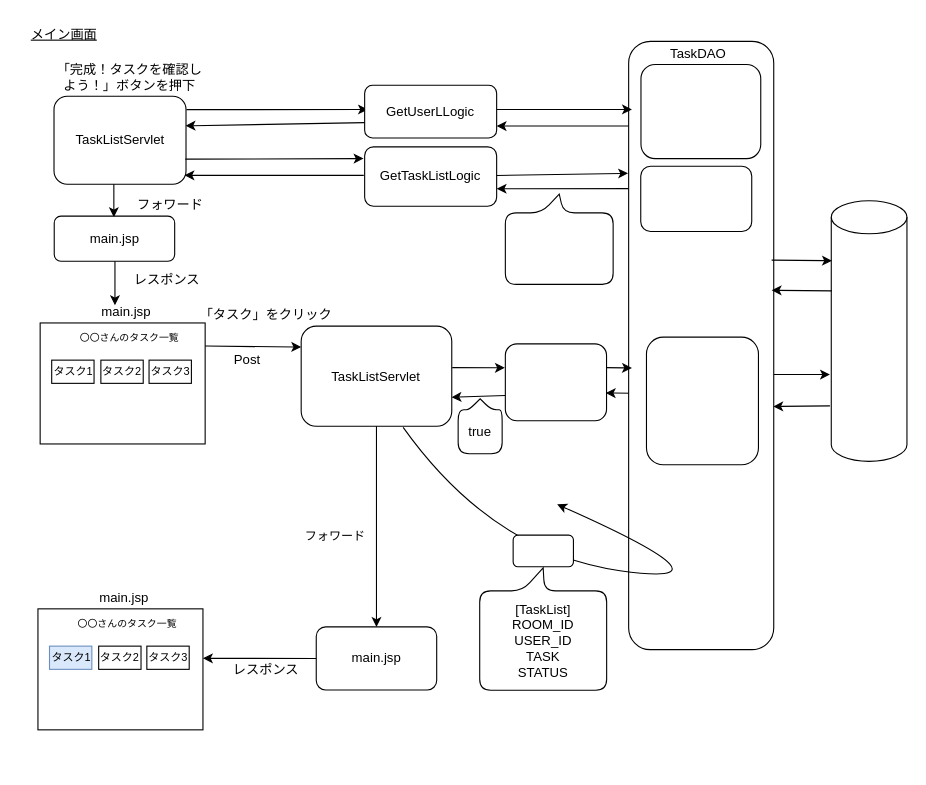
This 926x785 diagram has some shape labels left out. Here are the shapes that lost their labels. From the top down, the centre of each, then its label:
point (700, 111): updateuserid() Taskテーブルの useridを更新する UPDATE文を実行
point (696, 198): findAll() SELECT文を実行
point (558, 238): ROOMID TASK USERID STATUS
point (868, 330): [taskDB] roomID mission userid status
point (555, 382): PostStatusLogic
point (701, 400): update() status=0 を status=1 に更新する UPDATE文を実行する
point (542, 550): 取得
